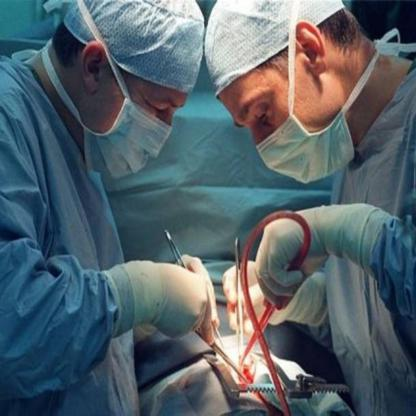face: (216, 63, 354, 184), (100, 39, 202, 180)
